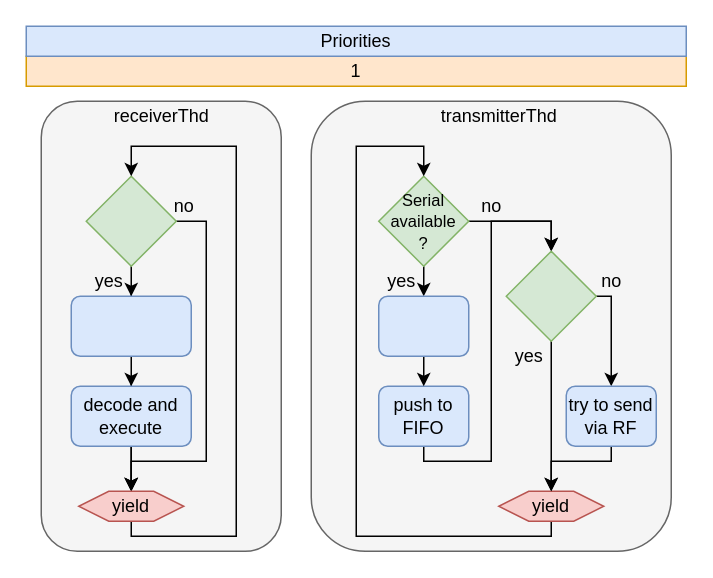
Image size: 713x578. Some labels were removed from this diagram. The centre of each missing label's shape, as x and y in pixels:
"FIFO empty ?" belongs at [550,295].
"receive command" belongs at [423,325].
"receive RF" belongs at [130,325].
"RF available ?" belongs at [130,220].
